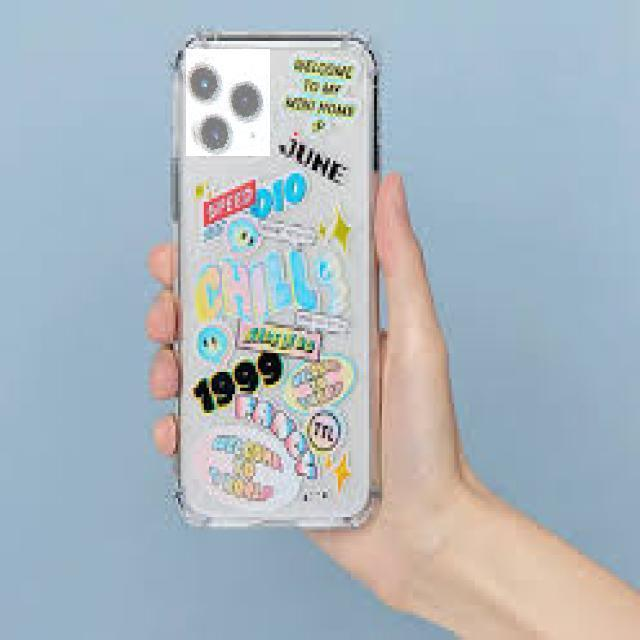phone: (164, 28, 388, 541)
